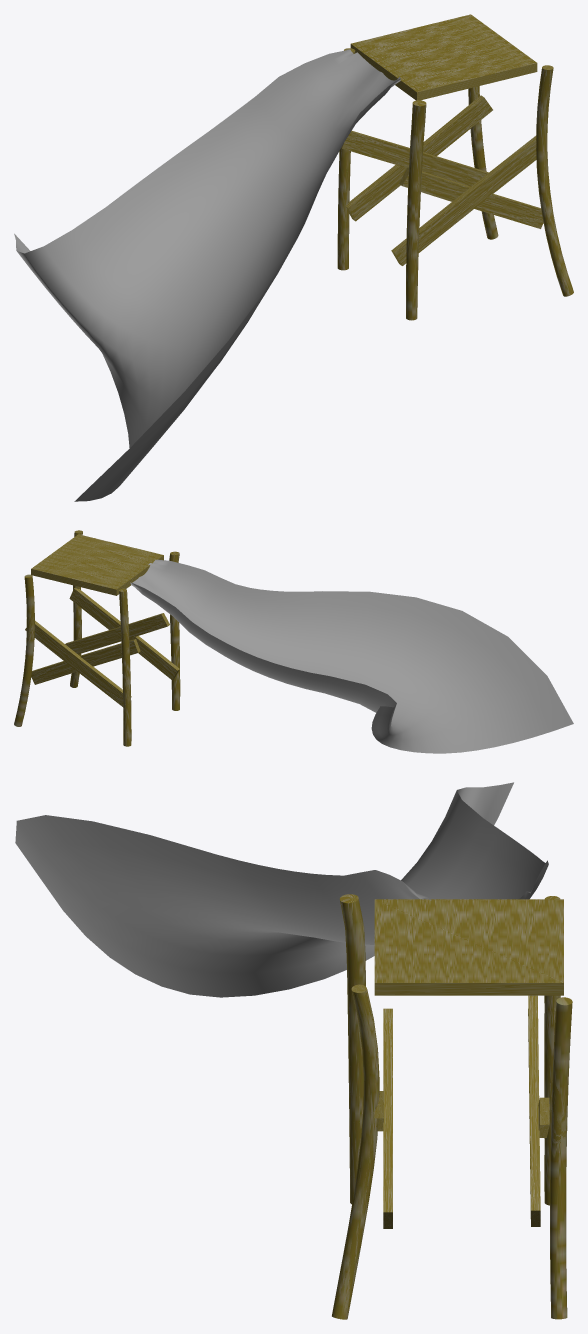
The model's file is tower6.FBX.
3 views of the same model, one above another, from view 1: azimuth 30°, elevation 25°; view 2: azimuth 150°, elevation 25°; view 3: azimuth 270°, elevation 25° (orthographic). The views are drawn at different scales.
Parts seen in each view (by area): view 1: Loft001, Box001; view 2: Loft001, Box001; view 3: Loft001, Box001.
Boxes of the visible parts, x1,y1,x2,y2 form: Loft001: [14, 49, 400, 501]; Box001: [337, 14, 573, 320]; Loft001: [130, 559, 573, 753]; Box001: [14, 530, 180, 746]; Loft001: [15, 782, 548, 997]; Box001: [332, 894, 572, 1319].
Size of the model in its own units: 152 by 58.92 by 85.49.
